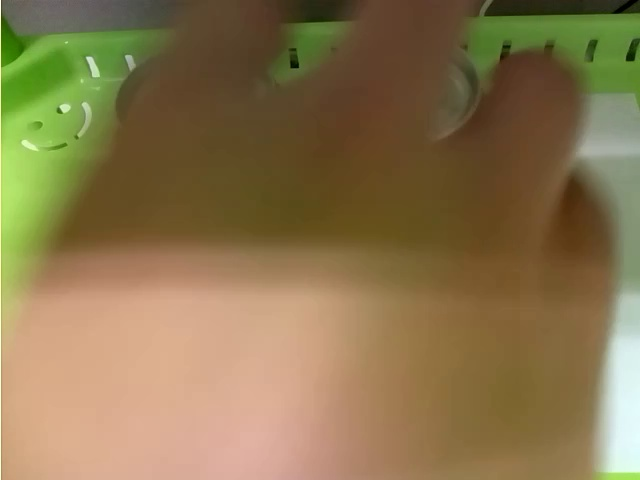hand: (4, 3, 621, 480)
